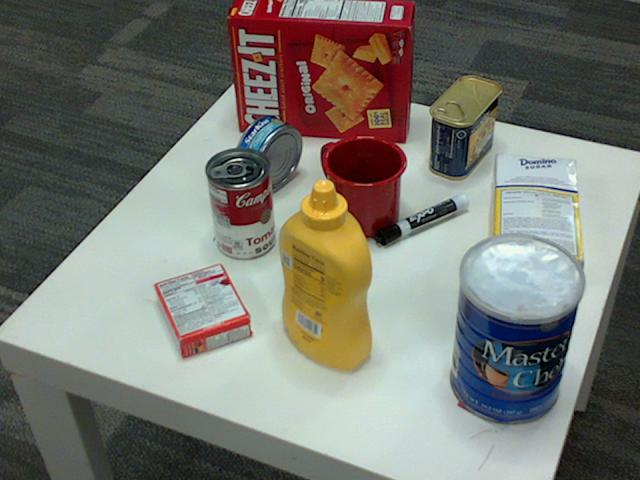cracker_box: (229, 0, 414, 141)
gelatin_box: (150, 262, 248, 358)
large_marker: (376, 197, 469, 245)
master_chef_can: (452, 235, 587, 426)
mug: (320, 133, 406, 237)
mustard_bottle: (279, 181, 371, 370)
potted_meat_can: (427, 77, 499, 180)
sugar_box: (489, 153, 583, 291)
tomato_soup_can: (205, 148, 275, 260)
tuna_fish_can: (232, 115, 301, 192)
